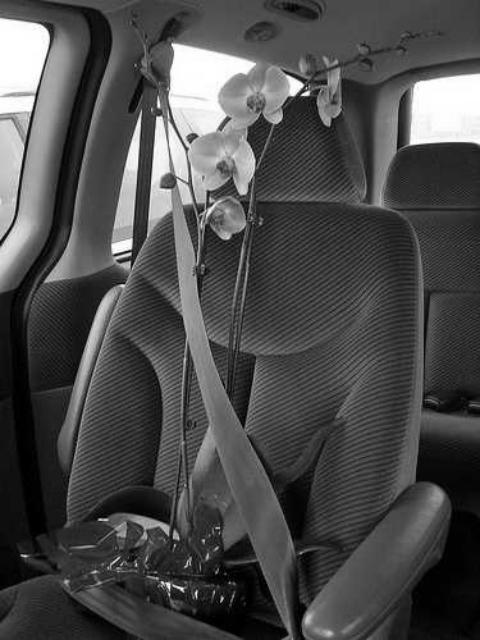Seatbelt: (64, 36, 298, 640)
